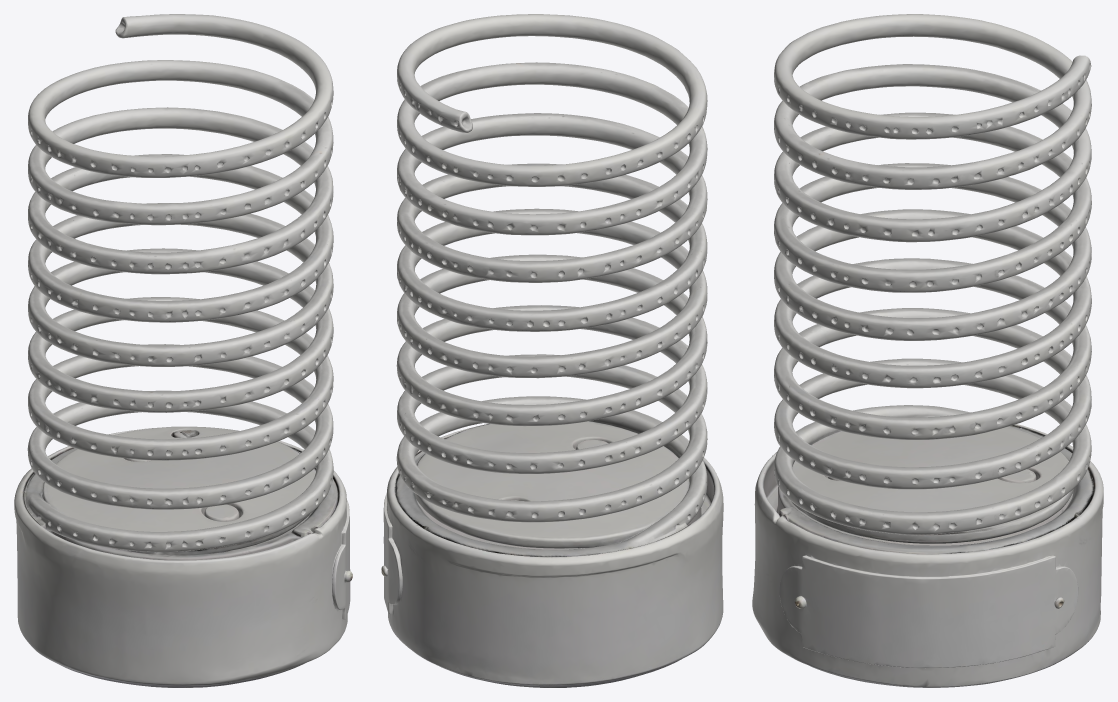
Rendered from webby.glb.
The picture shows the model from 3 angles, left to right: view 1: azimuth 30°, elevation 25°; view 2: azimuth 150°, elevation 25°; view 3: azimuth 270°, elevation 25°; orthographic projection. The views are drawn at different scales.
Parts seen in each view (by area): view 1: tripo_node_b17bff92-8c9a-456a-8b3f-a93d3bd211d5; view 2: tripo_node_b17bff92-8c9a-456a-8b3f-a93d3bd211d5; view 3: tripo_node_b17bff92-8c9a-456a-8b3f-a93d3bd211d5.
Part boxes in pixels (x1,y1,x2,y2): tripo_node_b17bff92-8c9a-456a-8b3f-a93d3bd211d5: (14,14,352,687); tripo_node_b17bff92-8c9a-456a-8b3f-a93d3bd211d5: (381,14,723,687); tripo_node_b17bff92-8c9a-456a-8b3f-a93d3bd211d5: (752,14,1103,687).
Size of the model in its own units: 0.5533 by 1 by 0.5537.
Materials: 1 (1 with a texture image).
